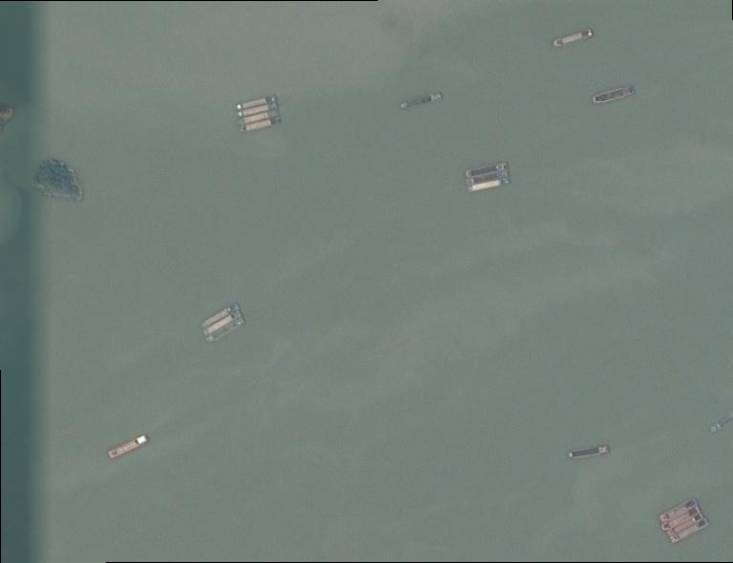ship: (202, 309, 242, 337), (108, 434, 149, 461), (201, 302, 241, 329), (671, 518, 710, 545), (208, 317, 246, 344), (662, 506, 701, 532), (660, 497, 698, 523), (668, 512, 705, 538), (399, 91, 444, 109), (594, 85, 636, 103), (555, 29, 595, 47), (467, 163, 510, 179), (469, 170, 510, 186), (242, 116, 280, 133), (237, 94, 277, 110), (239, 101, 278, 117), (470, 178, 510, 193), (243, 109, 279, 124), (570, 446, 609, 458)
